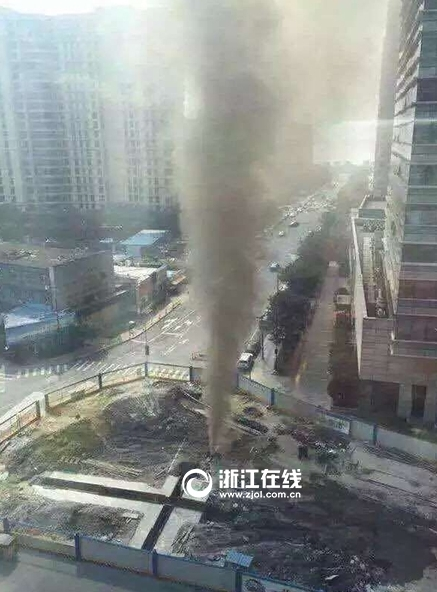smoke: (174, 17, 270, 443)
